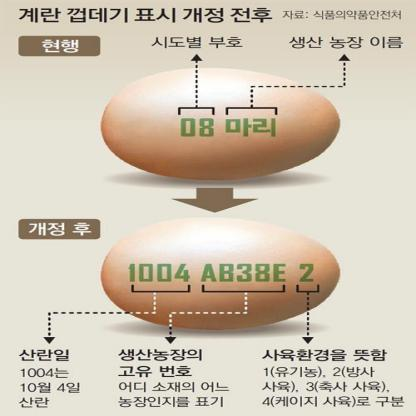egg: (78, 210, 362, 331), (102, 70, 342, 182)
